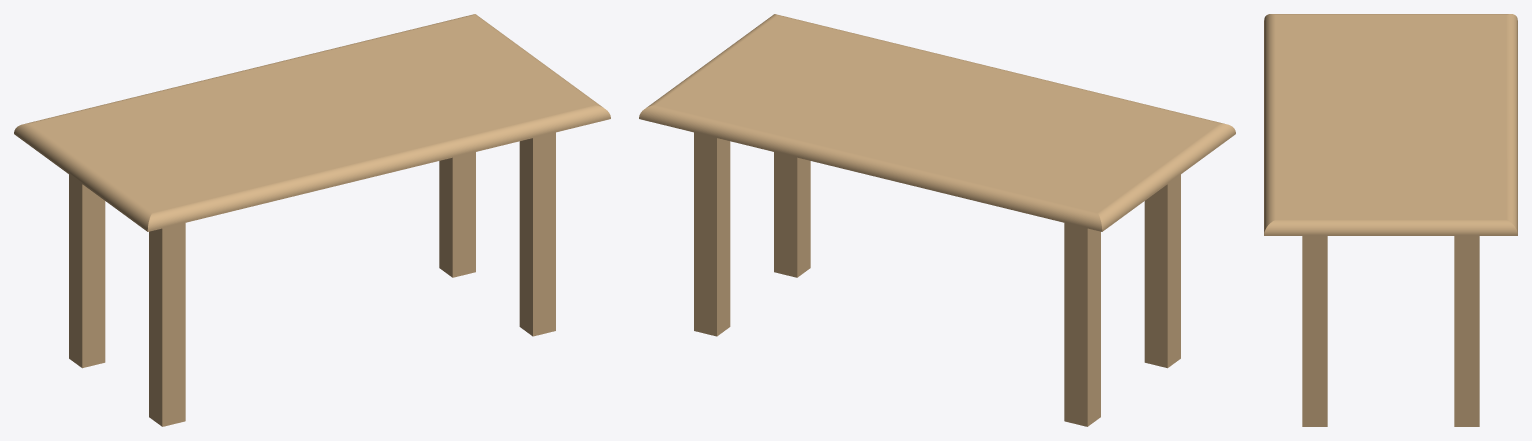
Rendered from table_generic.glb.
3 views of the same model, side by side, from view 1: azimuth 30°, elevation 25°; view 2: azimuth 150°, elevation 25°; view 3: azimuth 270°, elevation 25° (orthographic). The views are drawn at different scales.
Parts seen in each view (by area): view 1: GenericTable_1x2m; view 2: GenericTable_1x2m; view 3: GenericTable_1x2m.
Boxes of the visible parts, x1,y1,x2,y2 form: GenericTable_1x2m: [14, 14, 610, 426]; GenericTable_1x2m: [639, 14, 1235, 426]; GenericTable_1x2m: [1264, 14, 1517, 426].
Size of the model in its own units: 2 by 0.95 by 1.
